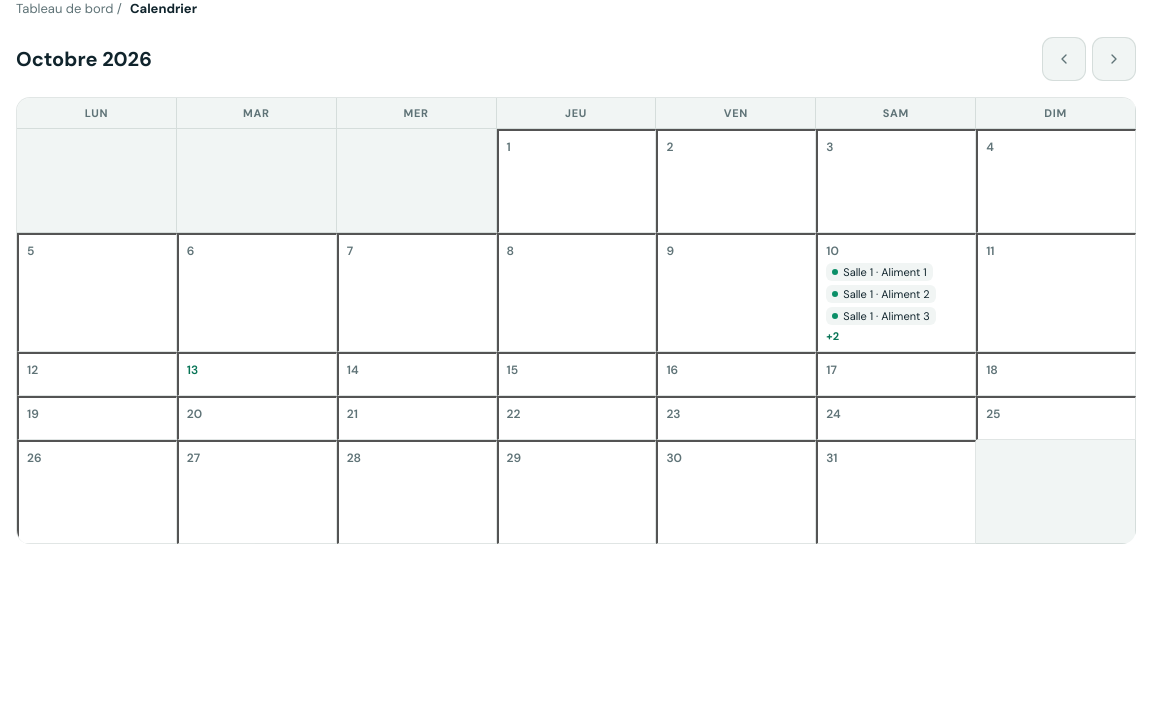
Scenario: CalendarPage › a day that fails to load says so
Click the button "Aliment 1" at (896, 292), box [816,233,976,352]
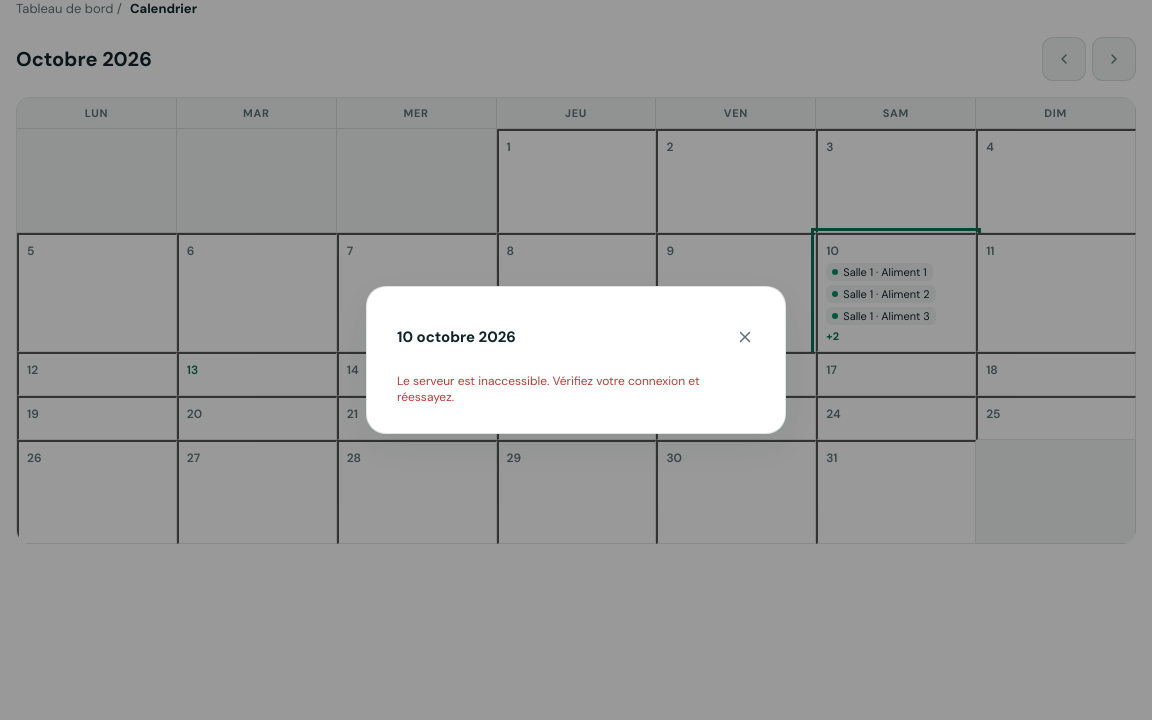
Expected: the message reads "Le serveur est inaccessible. Vérifiez votre connexion et réessayez.", [397,373,700,405]
